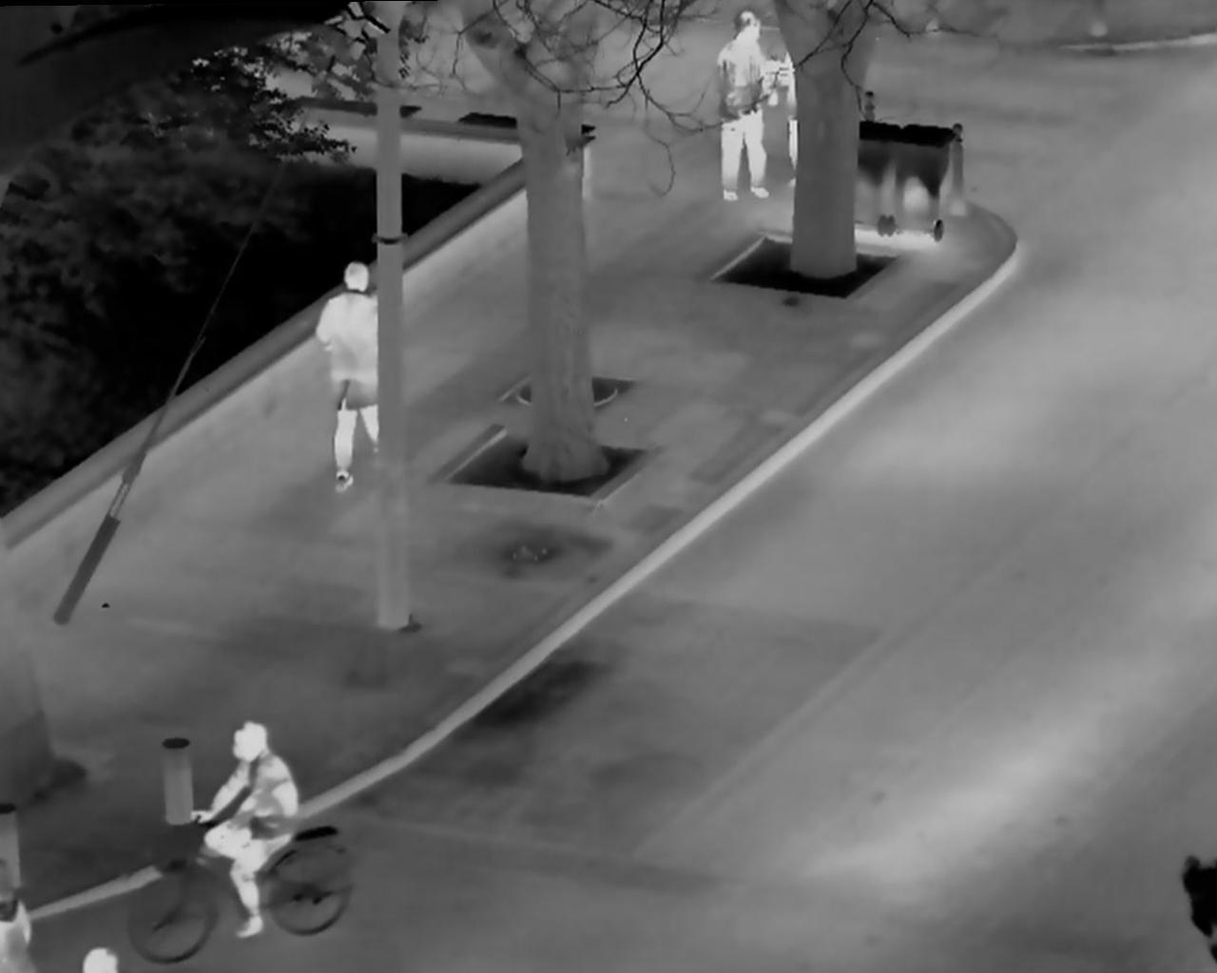person: (169, 713, 315, 948), (305, 245, 411, 516), (710, 6, 781, 210)
